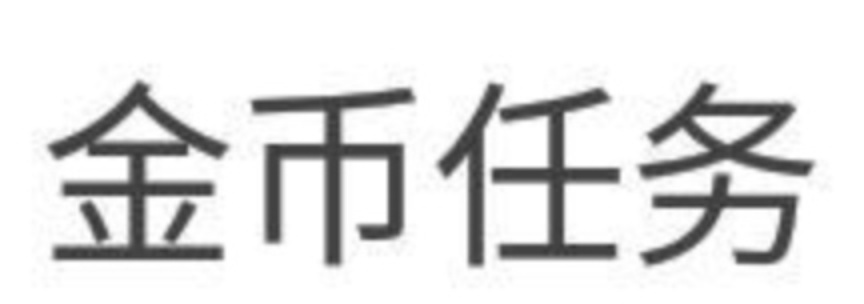TextView: (1, 1, 863, 303)
